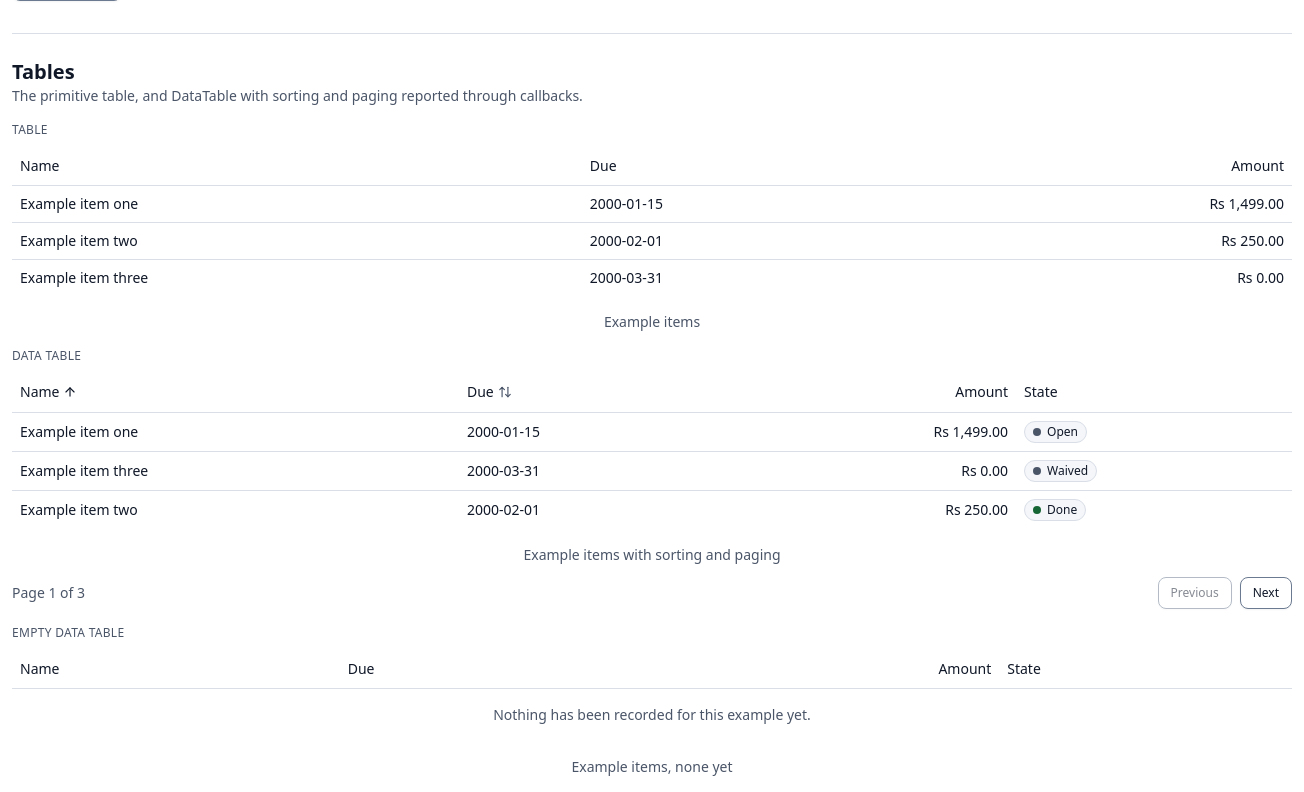
Test case: Catalogue › sorts and pages the data table through its callbacks
This screenshot has width=1304, height=792.
(page scrolled)
Click the button "Name". click: coordinates (49, 392)
box: [20,382,78,402]
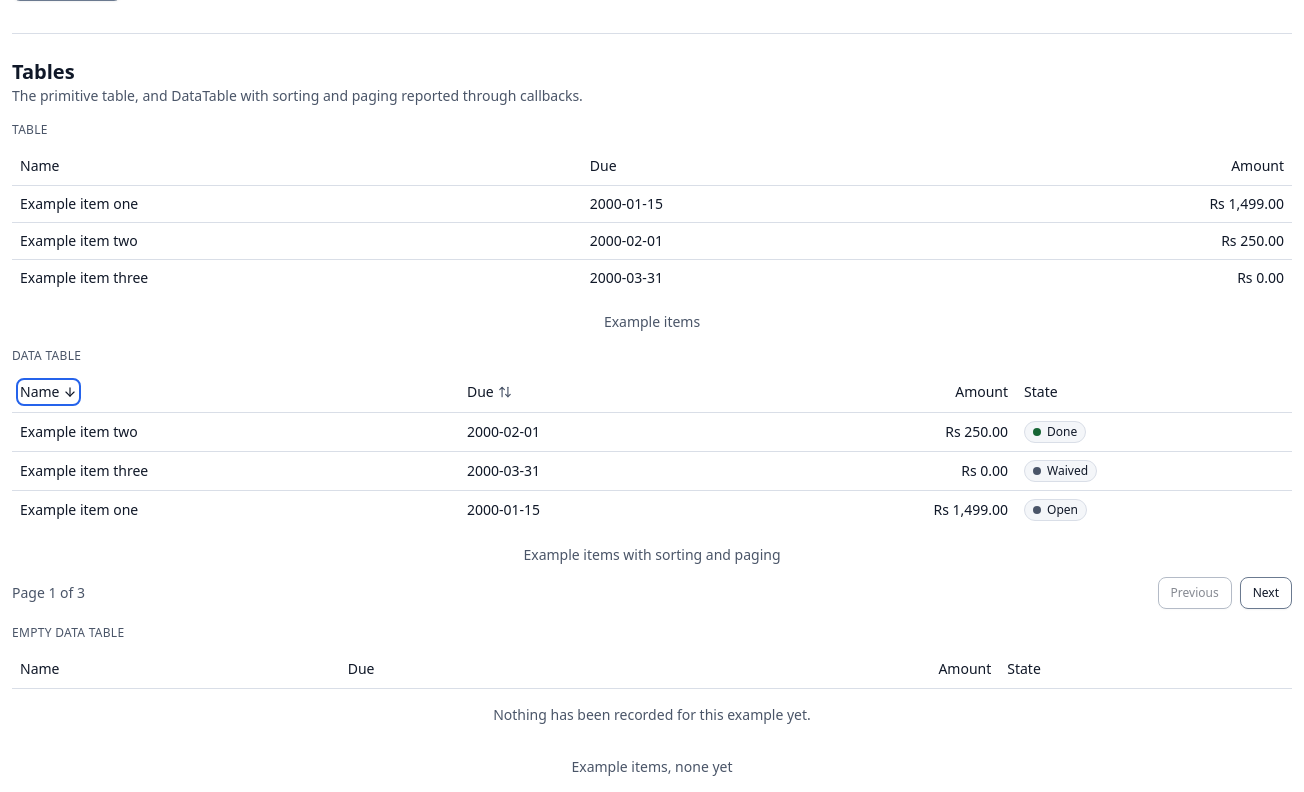
Expected: the 2nd cell "Example item two" is shown, [12,412,459,451]
Expected: the 2nd column heading "Name" has attribute aria-sort="descending", [12,372,459,412]
Click the button "Due". click: coordinates (489, 392)
box: [467,382,512,402]
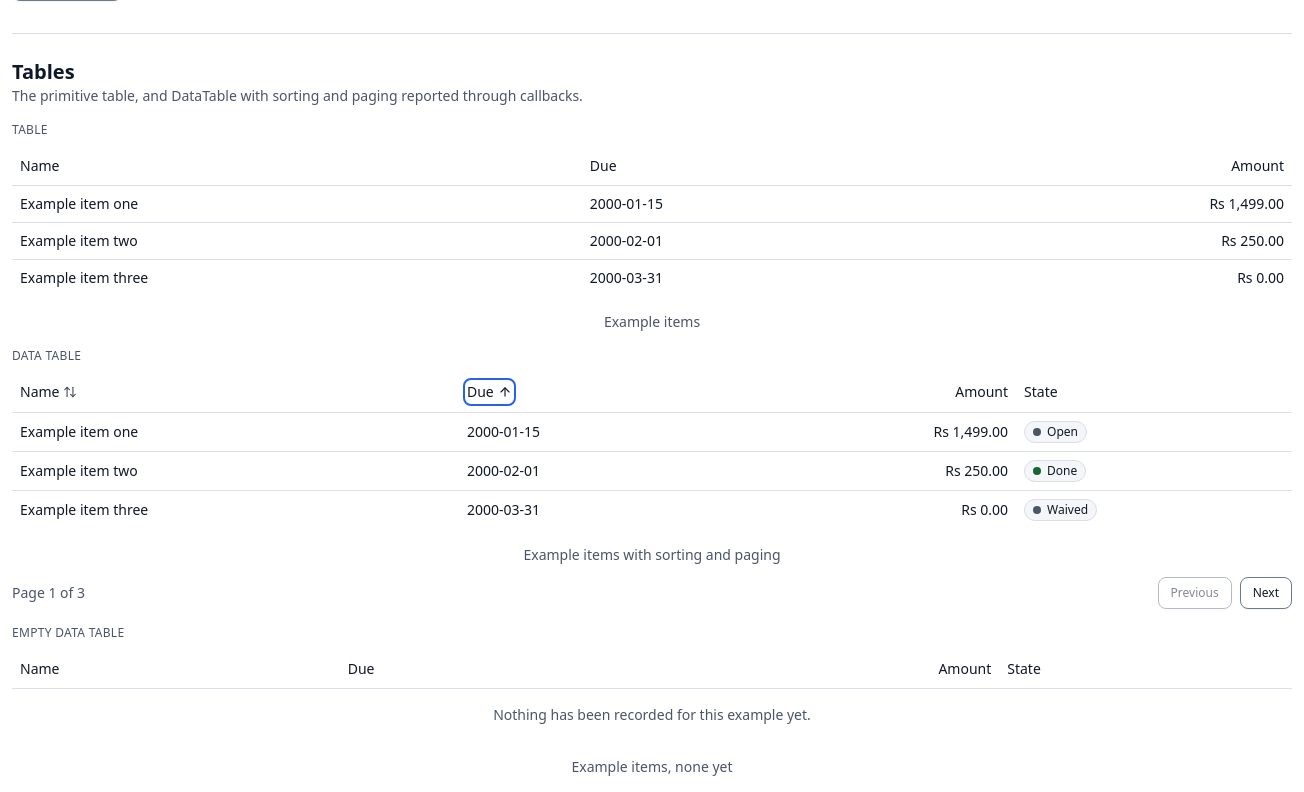
Expected: the 2nd column heading "Due" has attribute aria-sort="ascending", [459,372,735,412]
Click the button with aria-label "Next page". click: coordinates (1266, 593)
box: [1240,577,1292,609]
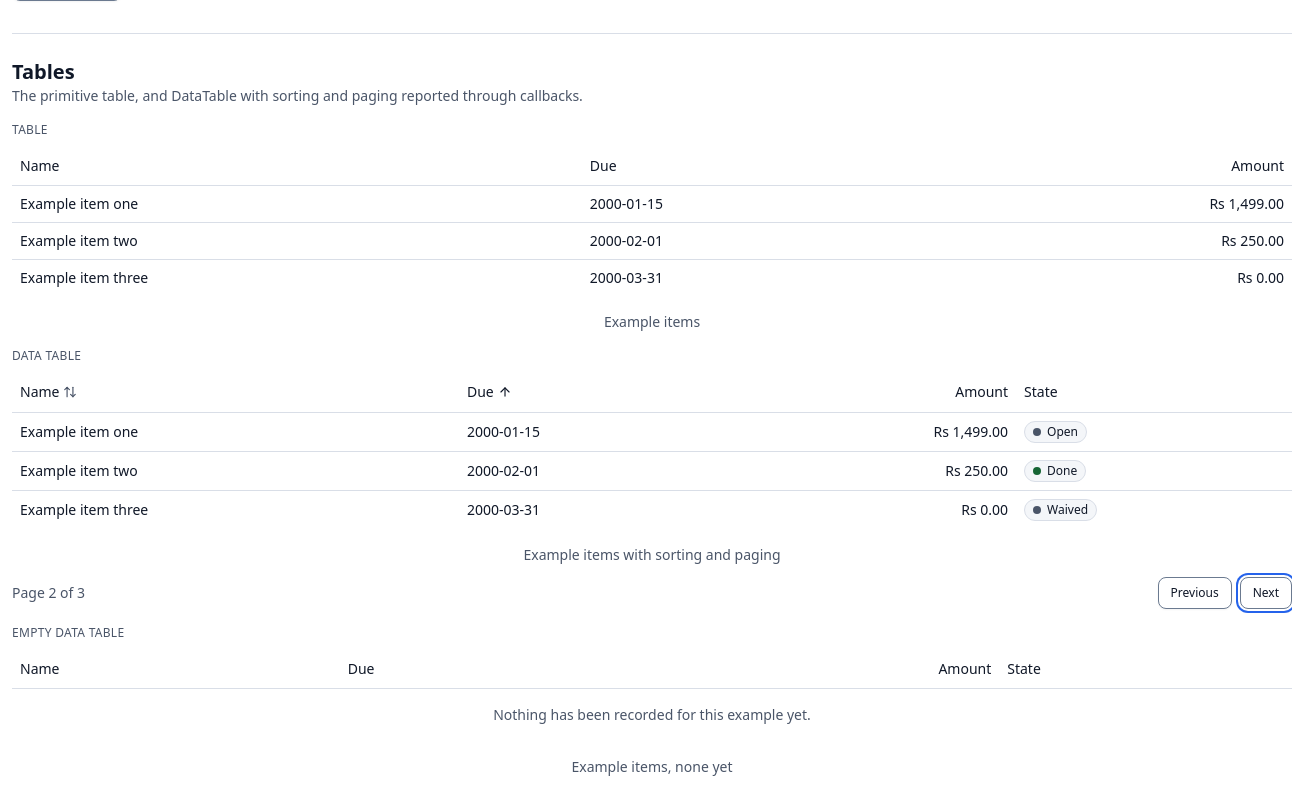
Expected: the text "Page 2 of 3" is shown, [12,583,85,603]
Click the button with aria-label "Previous page". click: coordinates (1195, 593)
box: [1158,577,1232,609]
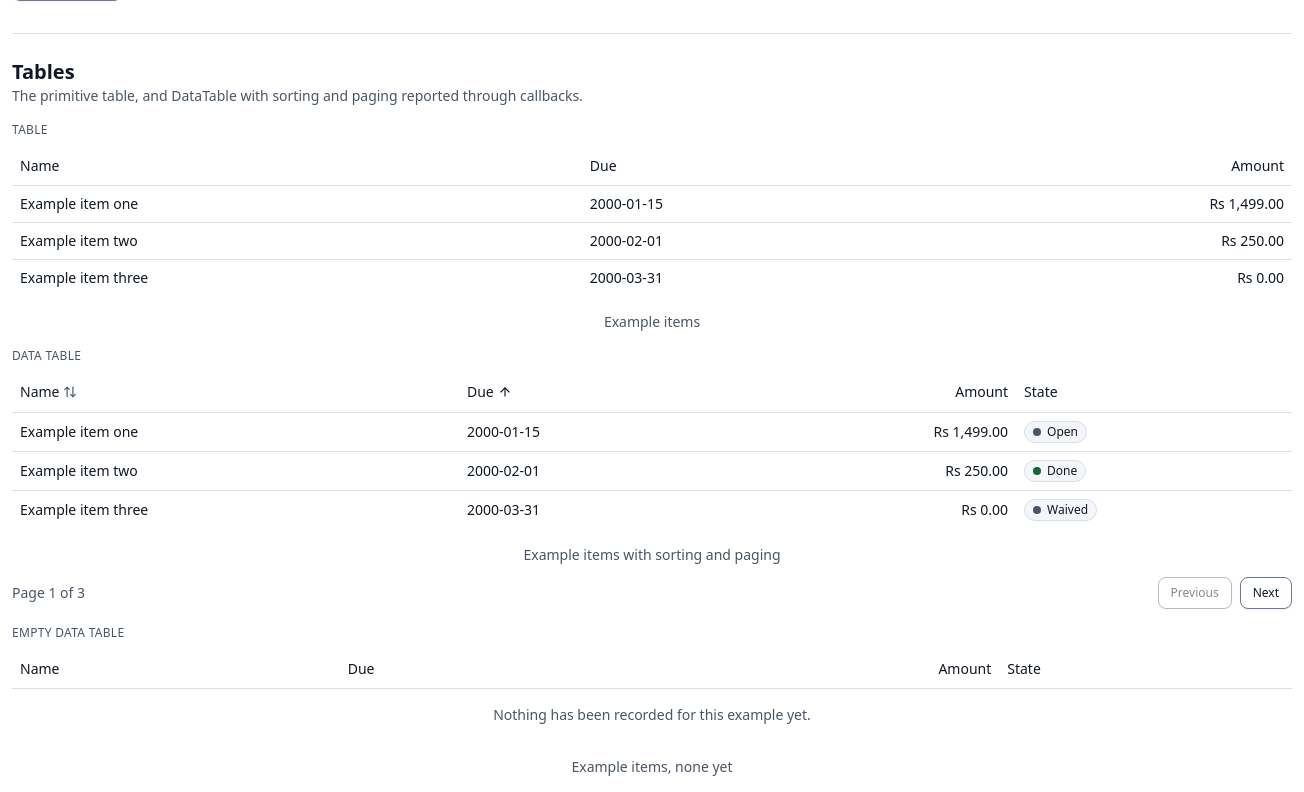
Expected: the text "Page 1 of 3" is shown, [12,583,85,603]
